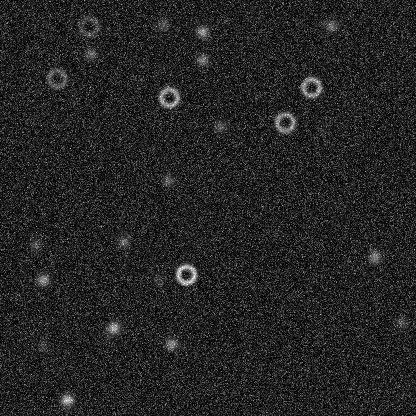Ring: (299, 75, 323, 99), (273, 110, 297, 134), (44, 66, 68, 90), (156, 85, 180, 109), (76, 14, 100, 38), (174, 262, 198, 286)
Spot: (194, 51, 210, 67), (314, 122, 330, 138), (392, 314, 408, 330), (115, 233, 131, 249), (82, 46, 98, 62), (163, 335, 179, 351), (366, 248, 382, 264), (155, 17, 171, 33), (27, 236, 43, 252), (100, 328, 116, 344), (194, 23, 210, 39), (35, 337, 51, 353), (150, 270, 166, 286), (105, 319, 121, 335), (58, 391, 74, 407), (35, 271, 51, 287), (323, 17, 339, 33), (160, 172, 176, 188), (212, 118, 228, 134)
